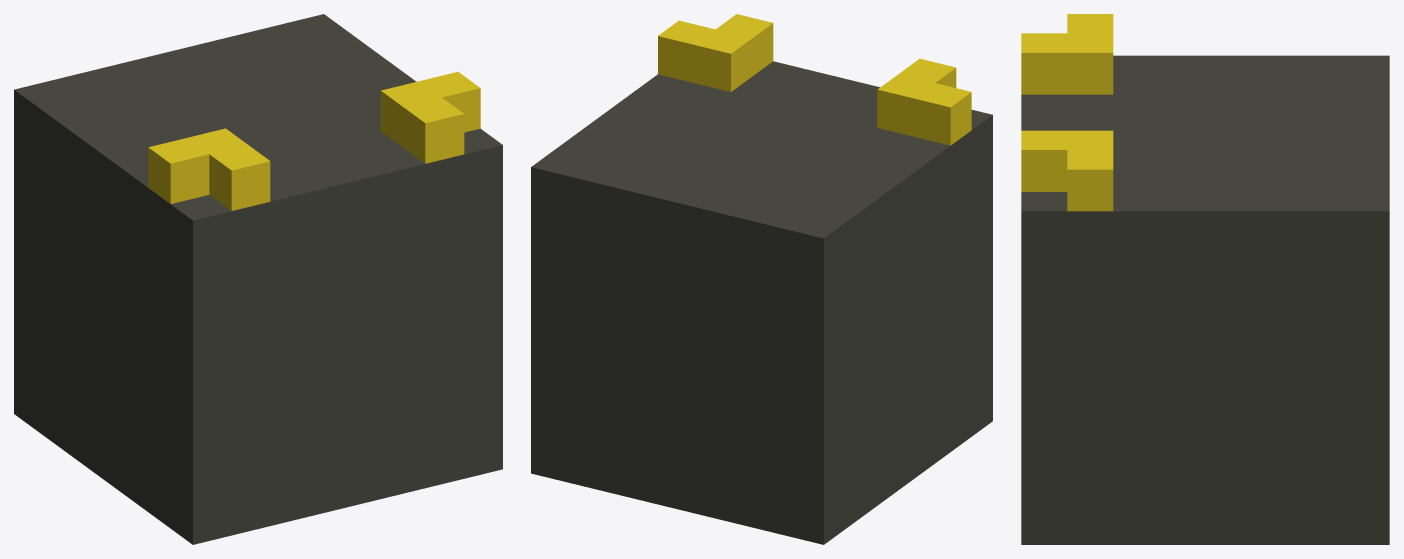
File: DoubleShortCornerBorder.fbx
3 views of the same model, side by side, from view 1: azimuth 30°, elevation 25°; view 2: azimuth 150°, elevation 25°; view 3: azimuth 270°, elevation 25° (orthographic). The views are drawn at different scales.
Parts seen in each view (by area): view 1: Border, Left, Right; view 2: Border, Right, Left; view 3: Border, Right, Left.
Boxes of the visible parts, box(x1,y1,x2,y2) form: Border: box(14, 14, 502, 544); Left: box(148, 128, 270, 210); Right: box(380, 72, 480, 163); Border: box(531, 61, 992, 544); Right: box(658, 14, 773, 91); Left: box(877, 58, 971, 145); Border: box(1021, 55, 1389, 544); Right: box(1021, 130, 1113, 211); Left: box(1021, 14, 1113, 94).
Size of the model in its own units: 100 by 112 by 100.
